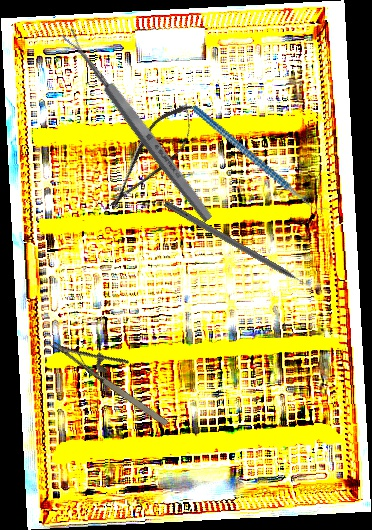Chopper: (191, 74, 329, 243)
Hook Surgical: (162, 200, 316, 294)
Micro Scissor: (96, 93, 207, 221)
Needle Holder: (50, 317, 183, 431)
Surgical Spoon: (60, 26, 216, 225)
